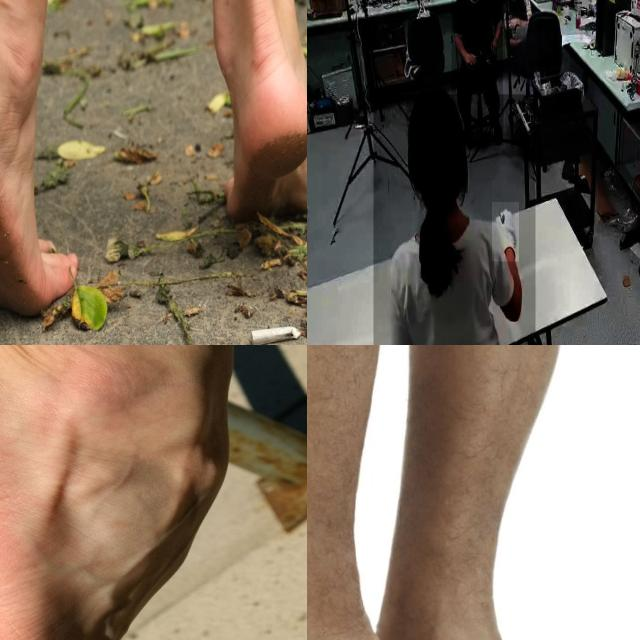Barefoots: (0, 345, 115, 640), (0, 50, 78, 317), (224, 66, 307, 218)
hand_glove: (492, 202, 519, 261)
hand_noglove: (462, 51, 478, 67), (490, 36, 498, 54), (507, 16, 517, 30)
head_nohelmet: (407, 84, 463, 138)
person: (373, 94, 536, 345), (451, 0, 503, 145), (505, 0, 538, 72)
